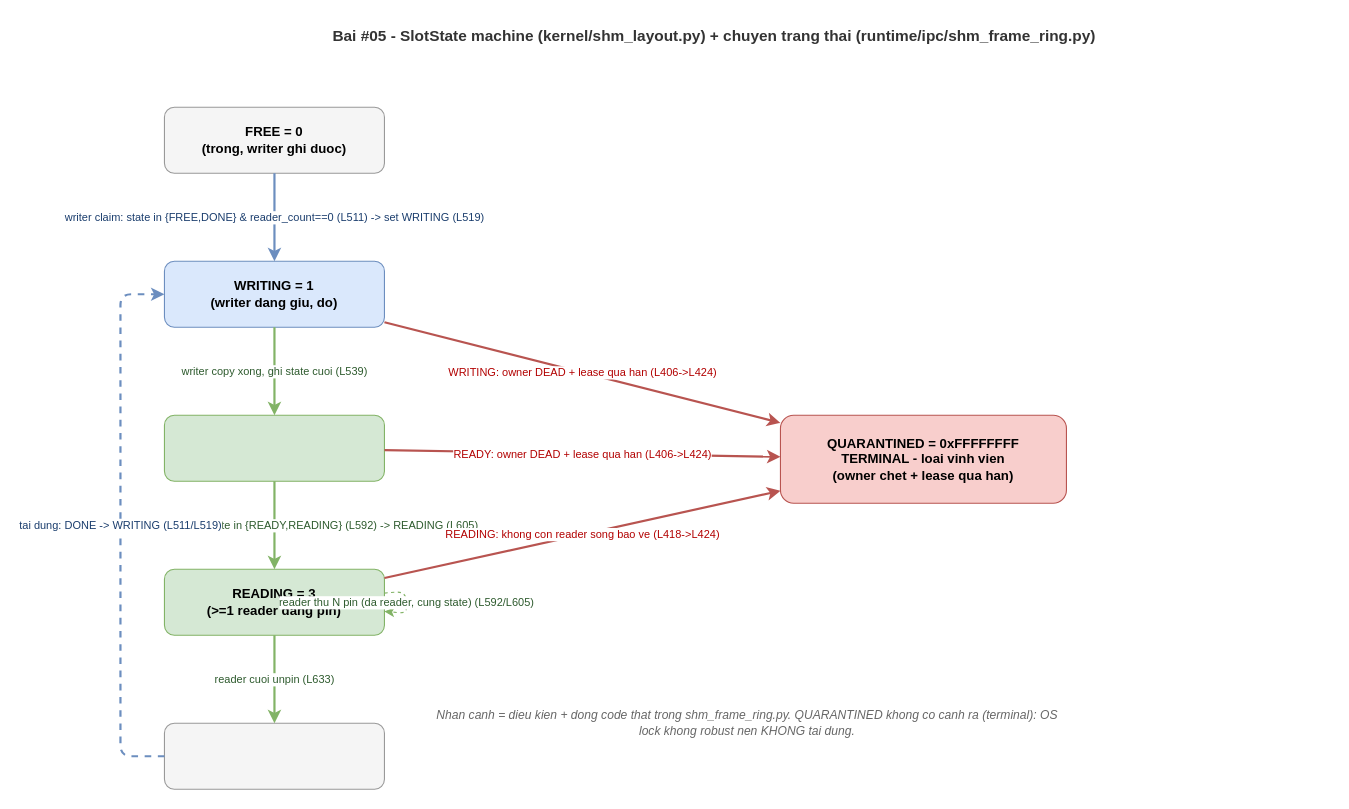
This 1349x809 diagram has some shape labels left out. The shapes that lost their labels are listed below. From the top down, each one's centre as x and y in pixels, then its label:
the point at 273,447: READY = 2 (san sang doc)
the point at 273,755: DONE = 4 (doc xong, tai dung duoc)
